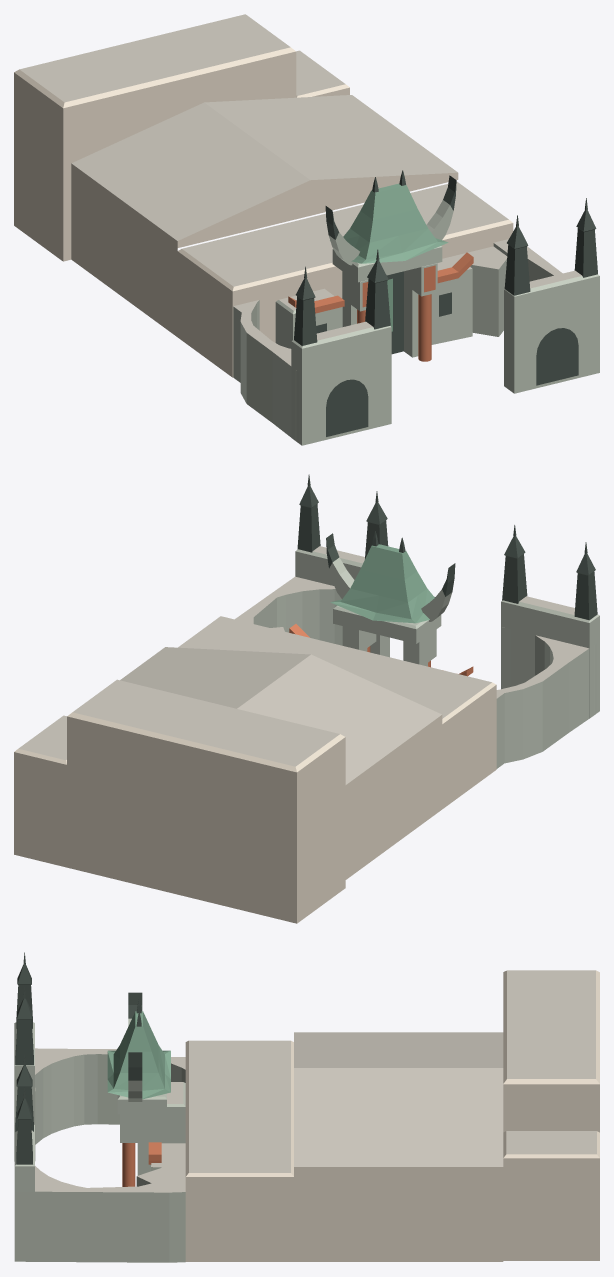
File: la-chinese-theatre.glb
The picture shows the model from 3 angles, top to bottom: view 1: azimuth 30°, elevation 25°; view 2: azimuth 150°, elevation 25°; view 3: azimuth 270°, elevation 25°; orthographic projection.
Visible parts, largest first — view 1: TCL Chinese Theatre; view 2: TCL Chinese Theatre; view 3: TCL Chinese Theatre.
Boxes of the visible parts, box(x1,y1,x2,y2) form: TCL Chinese Theatre: box(14, 14, 599, 445); TCL Chinese Theatre: box(14, 474, 599, 923); TCL Chinese Theatre: box(14, 952, 599, 1262).
Bounding box in the file's own units: 44.08 × 26.5 × 75.68.
